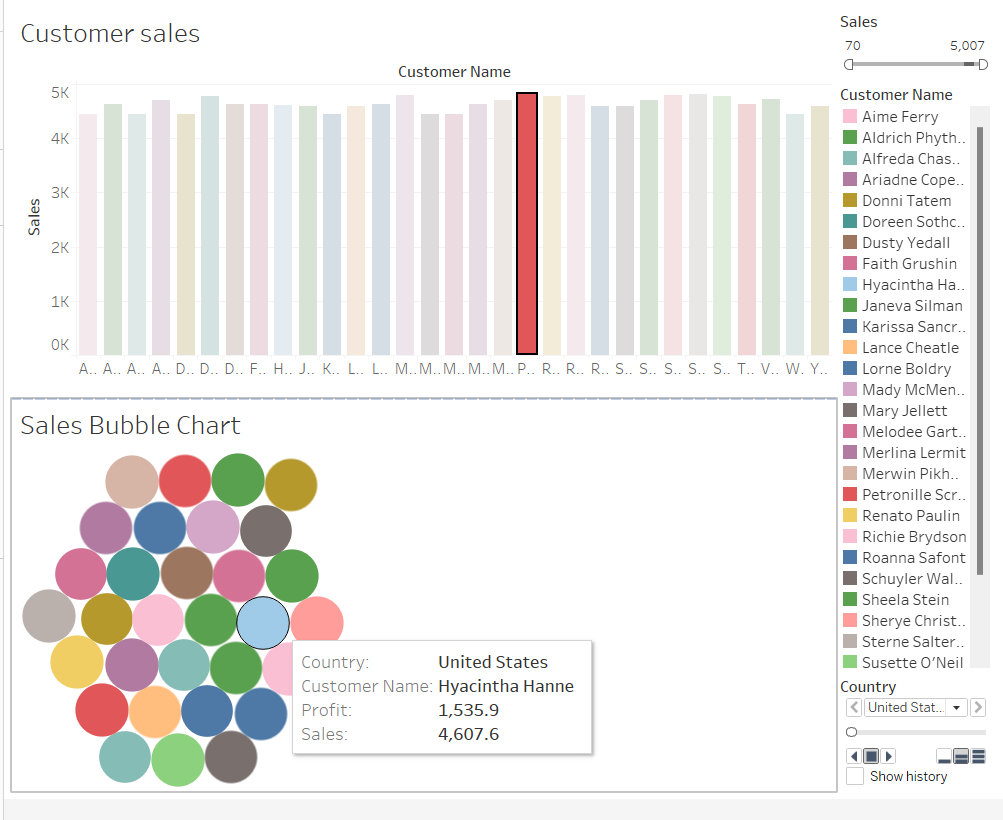

Layout of this report page (visuals, bound fields, positions):
{"tool":"tableau","page":{"name":"Dashboard 1","canvas":[1000,800],"ordinal":0},"visuals":[{"type":"worksheet","title":"customer-sales","mark":"Automatic","rows":["Sales"],"cols":["Customer Name"],"box":[8,8,824,392]},{"type":"filter","title":"customer-sales","param":"[federated.1bxxbm91hcm5bz10kivu11raeltc].[sum:Sales:qk]","box":[832,8,160,73]},{"type":"legend","title":"customer-sales","param":"[federated.1bxxbm91hcm5bz10kivu11raeltc].[none:Customer Name:nk]","box":[832,81,160,592]},{"type":"worksheet","title":"sales-bubble","mark":"Circle","box":[8,400,824,392]},{"type":"currpage","title":"customer-sales","box":[832,673,160,119]}]}

Visuals, with their boxes in screenshot pixels (x1, y1, x2, y2), scaled from the page's 1000x800 canvas onto the 1003x820 screenshot:
"customer-sales" worksheet: box=[8, 8, 834, 410]
"customer-sales" filter: box=[834, 8, 995, 83]
"customer-sales" legend: box=[834, 83, 995, 690]
"sales-bubble" worksheet (Circle marks): box=[8, 410, 834, 812]
"customer-sales" currpage: box=[834, 690, 995, 812]
